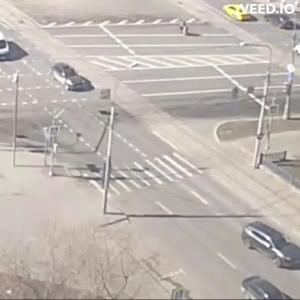car: (243, 221, 300, 270), (52, 63, 92, 94), (242, 277, 284, 300), (1, 30, 22, 63)
